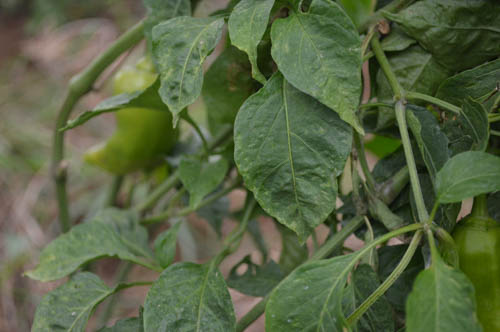ChiliPepper: (79, 67, 176, 178), (450, 226, 498, 330)
